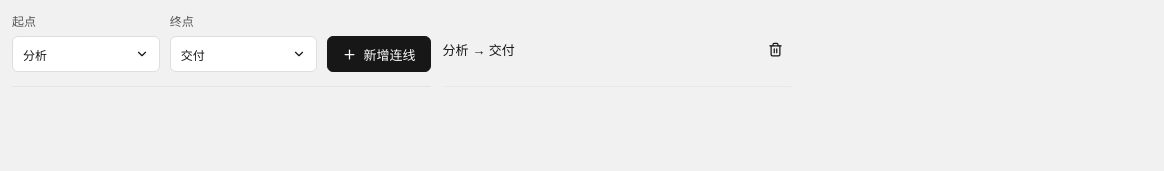
Scenario: WorkflowTemplateEdgeEditor transient command failures › publishes a safe Toast when adding an edge fails
Click the button "新增连线".
click(379, 54)  # box 328,36 -> 430,72
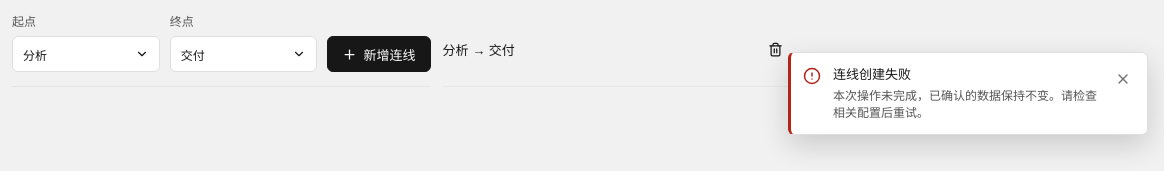
Check: the message "连线创建失败 本次操作未完成，已确认的数据保持不变。请检查相关配置后重试。" is shown, box 788,52 -> 1148,135
Check: the message shows "连线创建失败", box 833,67 -> 911,82
